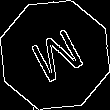M_SE: (23, 22, 87, 88)
